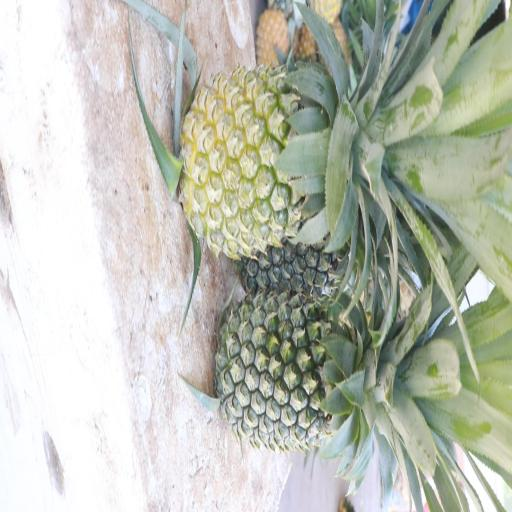Pineapple - v8 v1: (182, 67, 370, 255)
